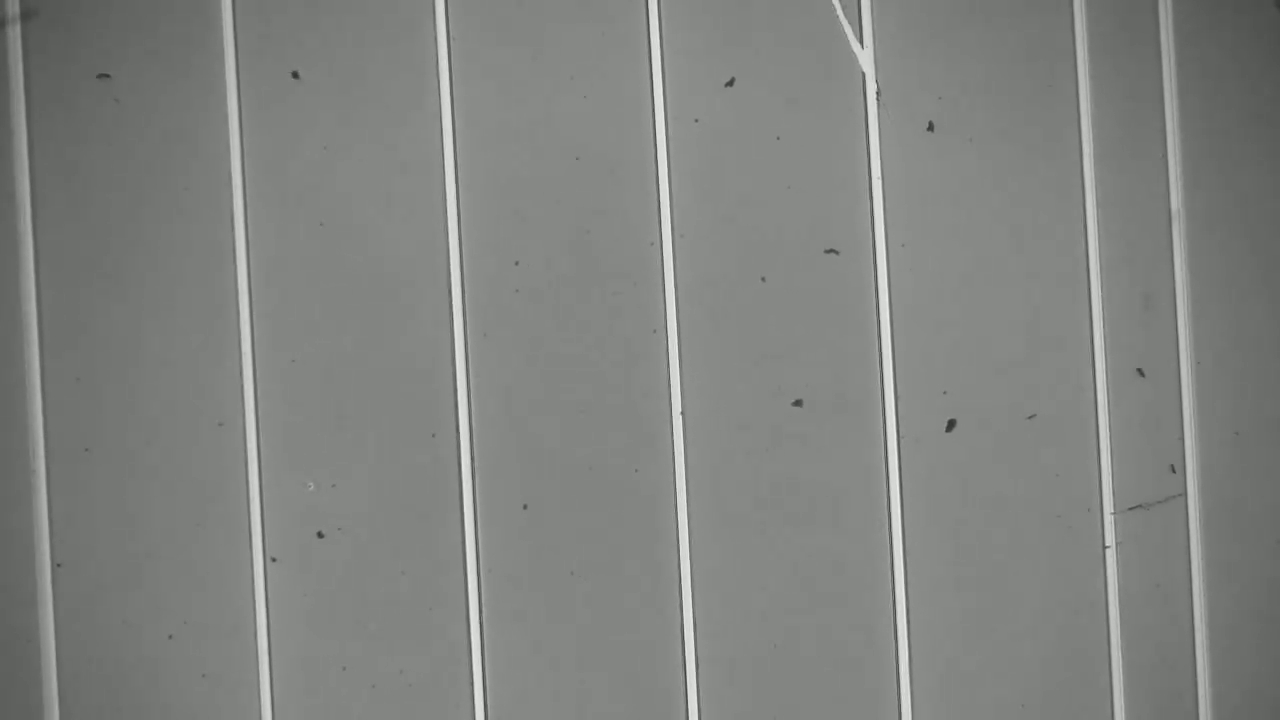scratch: (1112, 481, 1183, 516), (831, 1, 857, 63)
